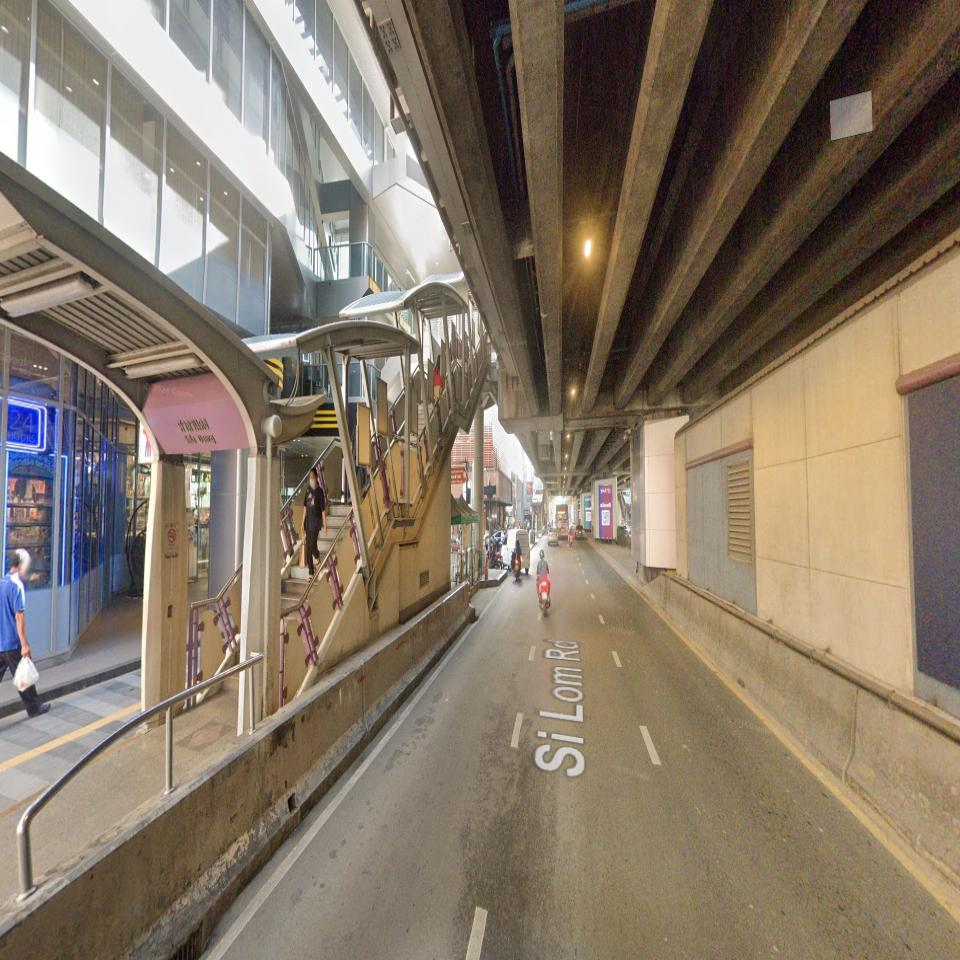Sala Daeng: (138, 398, 251, 465), (143, 398, 250, 456)
